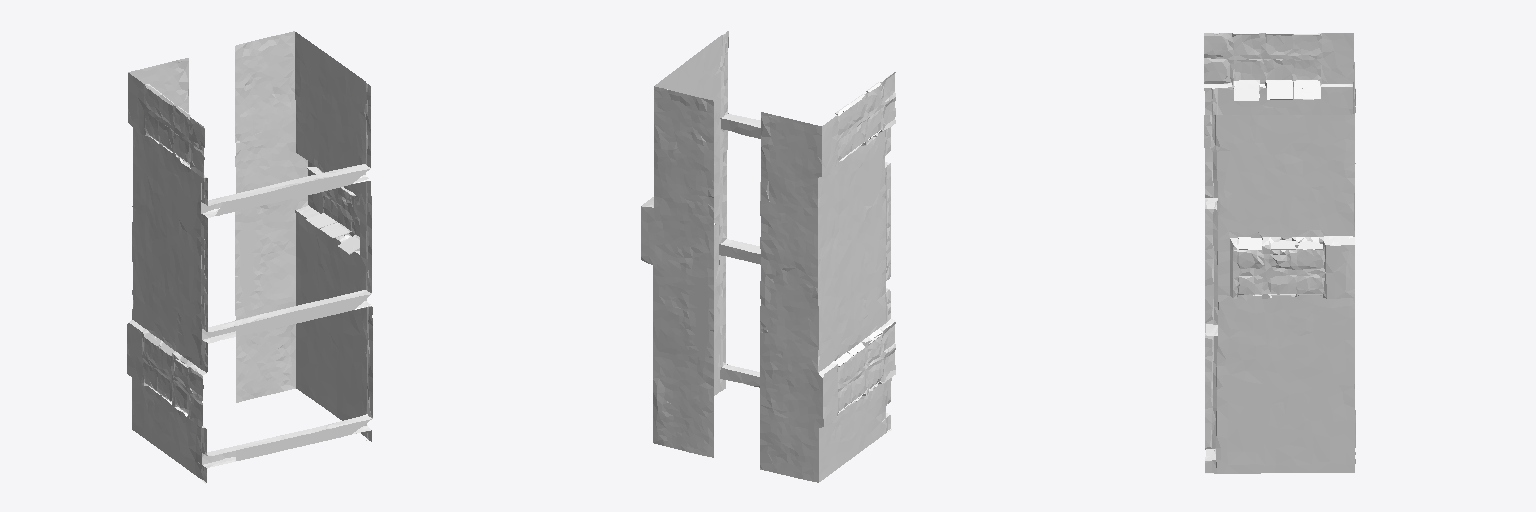
The model's file is 3Back_A.obj.
3 renders of one model, left to right at view 1: azimuth 30°, elevation 25°; view 2: azimuth 150°, elevation 25°; view 3: azimuth 270°, elevation 25°, orthographic.
Visible parts, largest first — view 1: 3Back_A; view 2: 3Back_A; view 3: 3Back_A.
Part boxes in pixels (x1,y1,x2,y2): 3Back_A: (127,31,372,483); 3Back_A: (641,31,895,482); 3Back_A: (1204,33,1355,473).
Bounding box in the file's own units: 2.55 × 4.72 × 1.82.